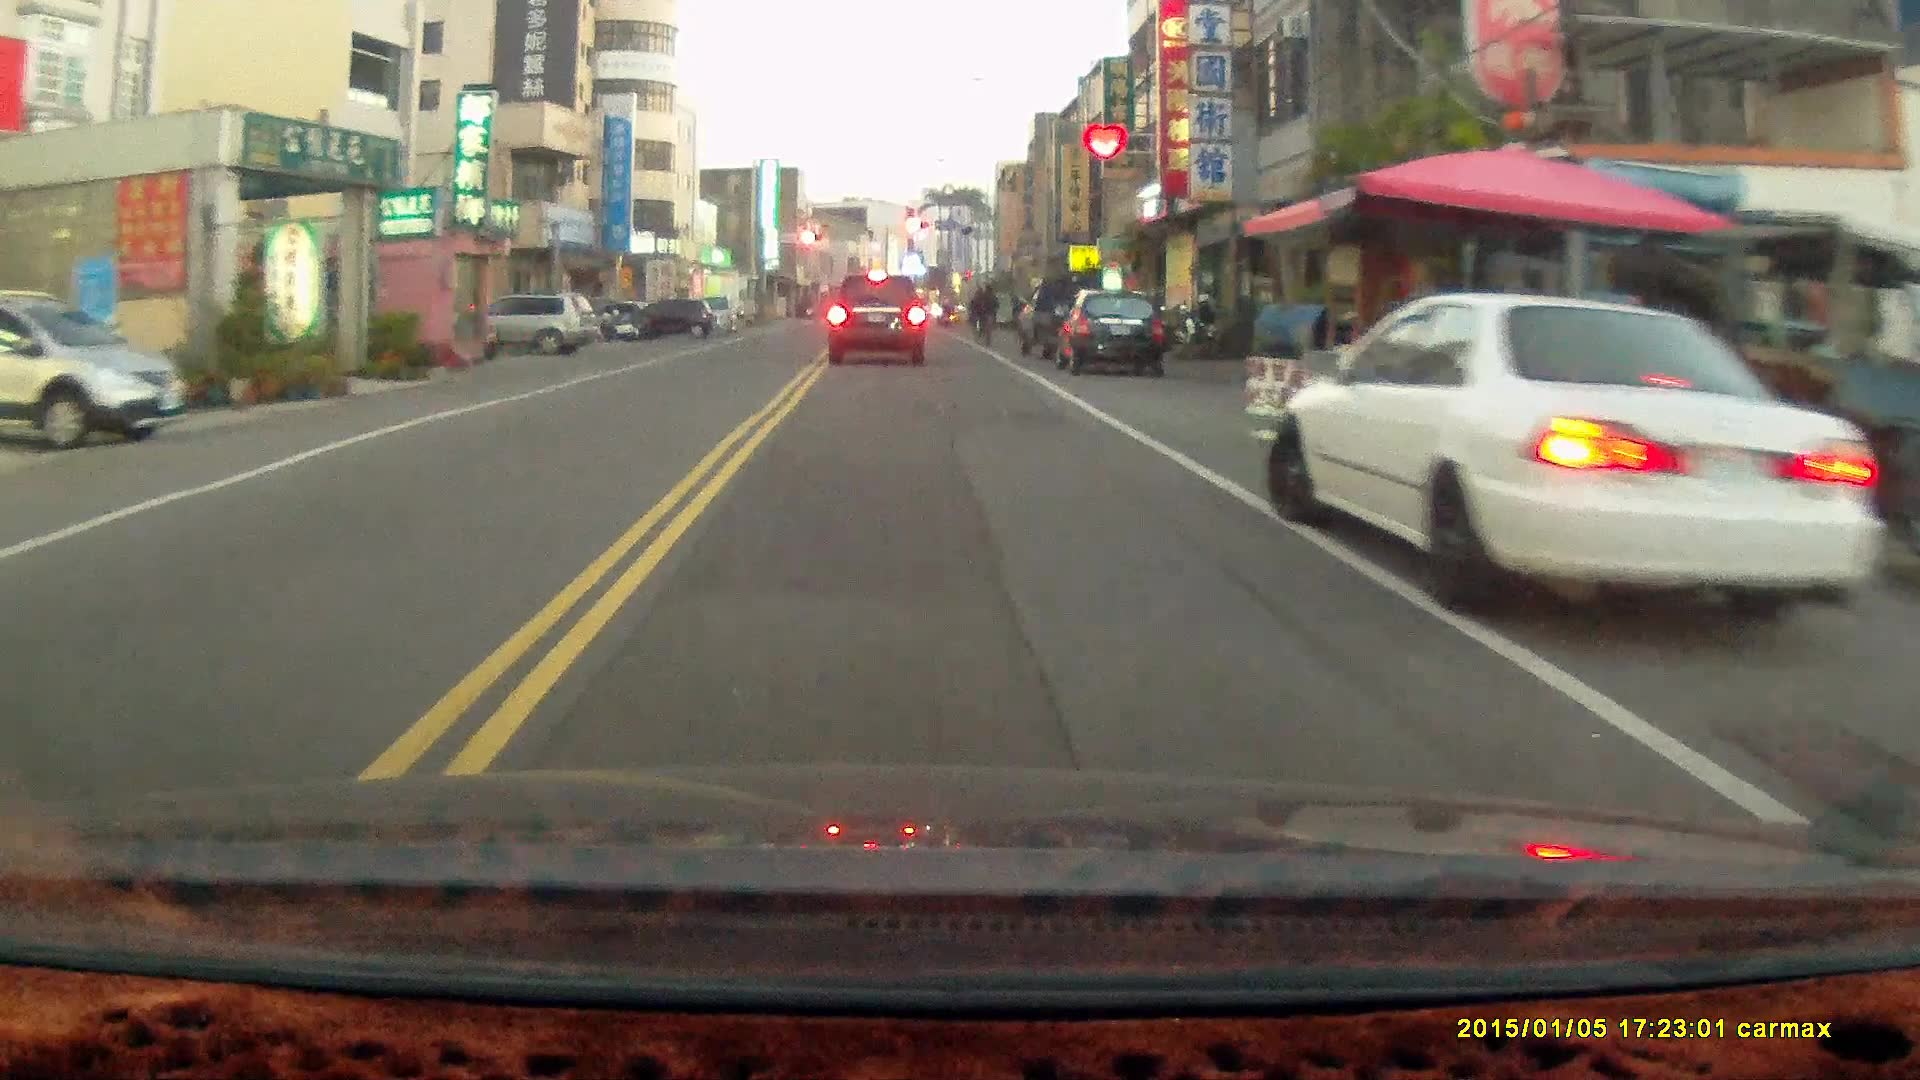rider: (971, 278, 1000, 346)
vehicle: (1269, 290, 1864, 613), (1, 290, 190, 449), (1056, 293, 1176, 383), (827, 274, 933, 370), (458, 291, 600, 354), (619, 296, 717, 342)
